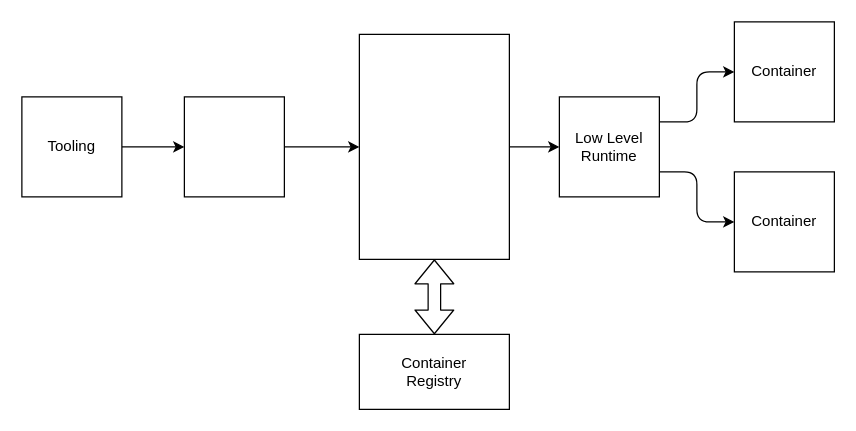
This 856x431 diagram has some shape labels left out. Each missing label, with the box of its shape:
High Level Runtime: (183, 96, 284, 197)
Open Container Initiative (OCI) Spec: (358, 33, 509, 259)
